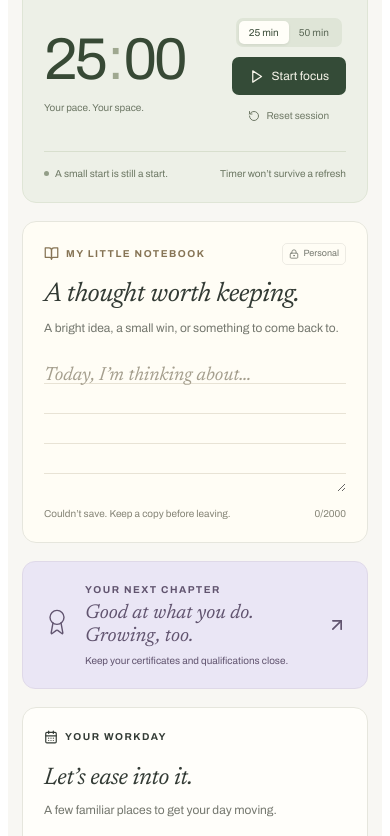
it: personal My Desk › keeps controls usable and explains unsaved notes when browser storage is blocked
The width and height of the screenshot is (390, 836).
(page scrolled)
Type "Keep a copy" into the text box named "Today’s personal note" at (195, 423), box [44, 354, 346, 492]
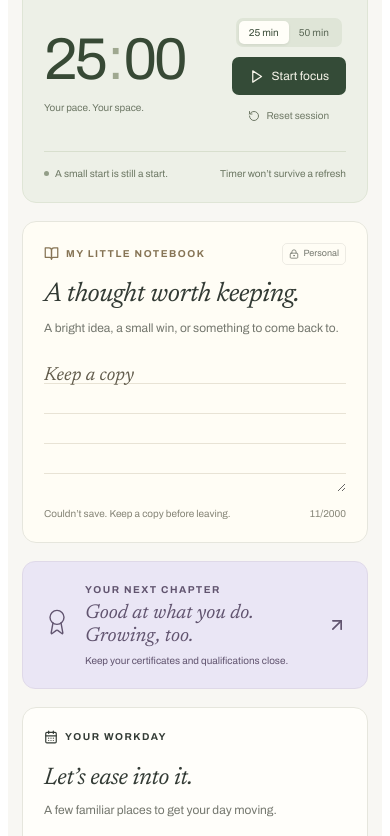
Expected: the text "Couldn’t save. Keep a copy before leaving." is shown, [44, 506, 231, 521]
Click the button "Start focus" at (289, 76), box [232, 57, 346, 95]
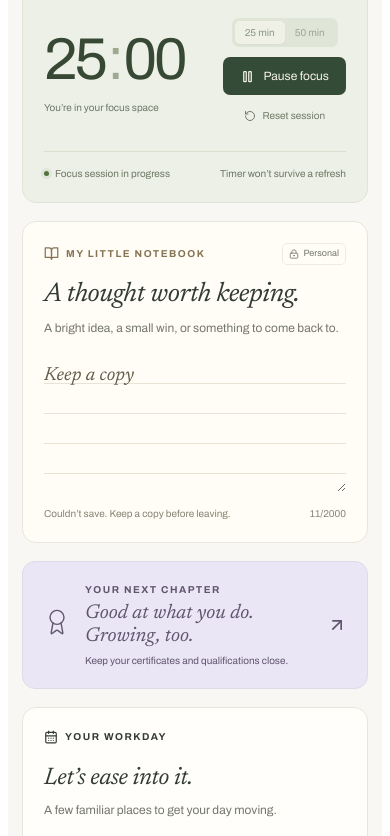
Expected: the button "Pause focus" is shown, [223, 57, 346, 95]
